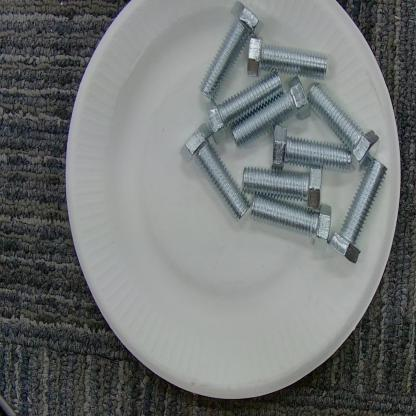FOD: (187, 3, 391, 278)
